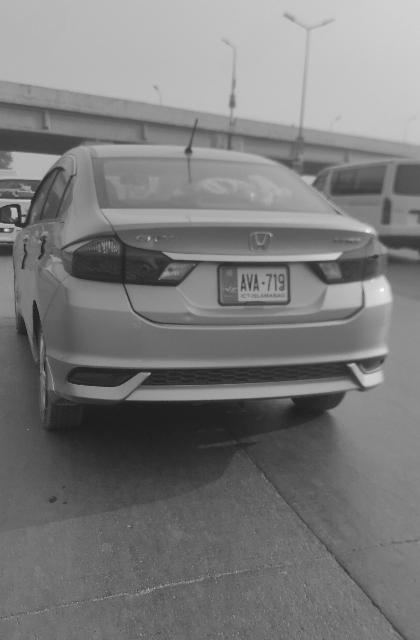Number: (241, 272, 286, 294)
